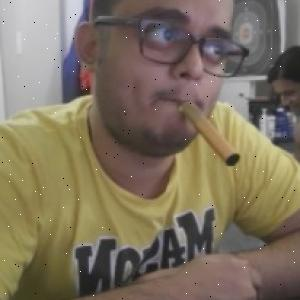Golden-E-Ciggirate: (181, 100, 244, 168)
